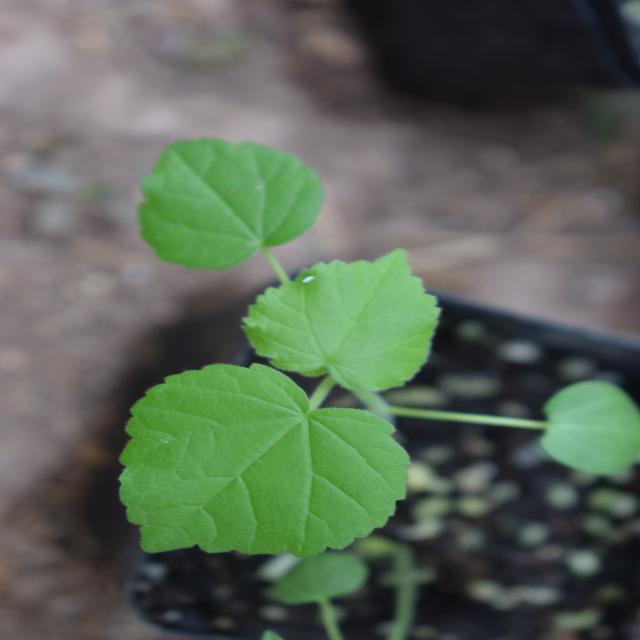abutilon theophrasti: (125, 96, 540, 564)
